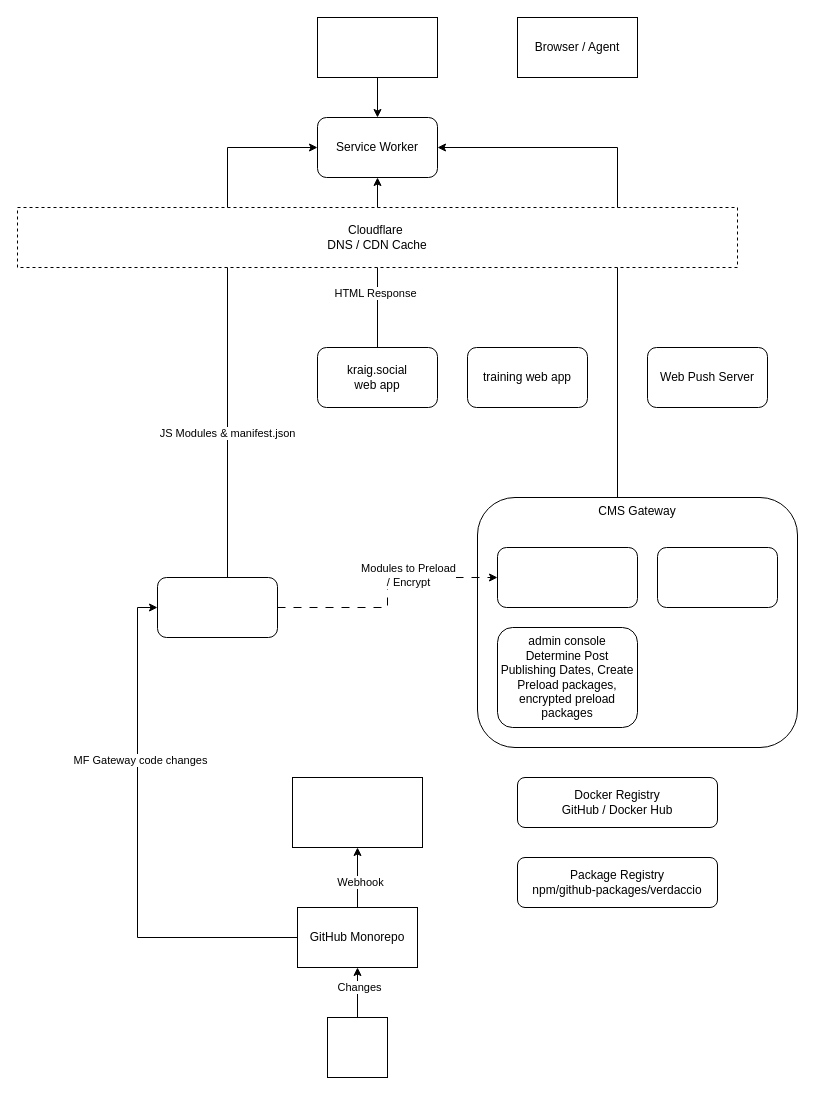
This 815x1095 diagram has some shape labels left out. The centre of each missing label's shape, as x and y in pixels:
"(publishing, preload, encrypt) /ppe/*" goes at (x=567, y=577).
"Browser" goes at (x=377, y=47).
"Dev" goes at (x=357, y=1047).
"Dockploy" goes at (x=357, y=812).
"module-federation remote registry /mf/*" goes at (x=217, y=607).
"static content /c/*" goes at (x=717, y=577).
